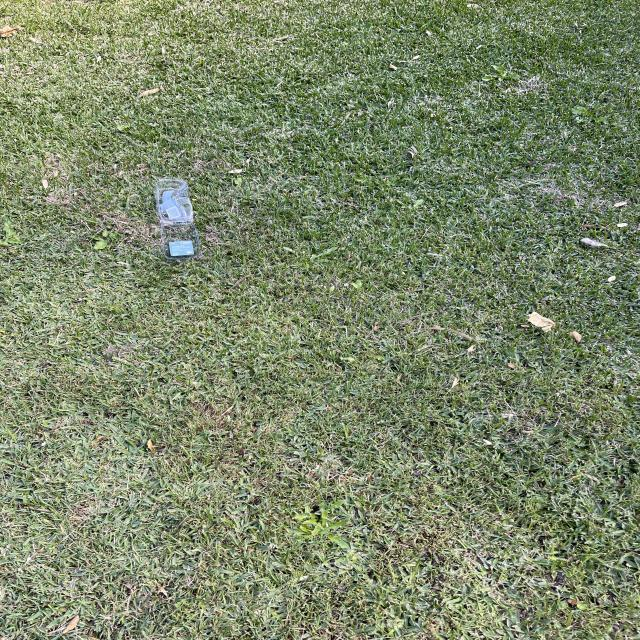bottle: (157, 170, 204, 264)
